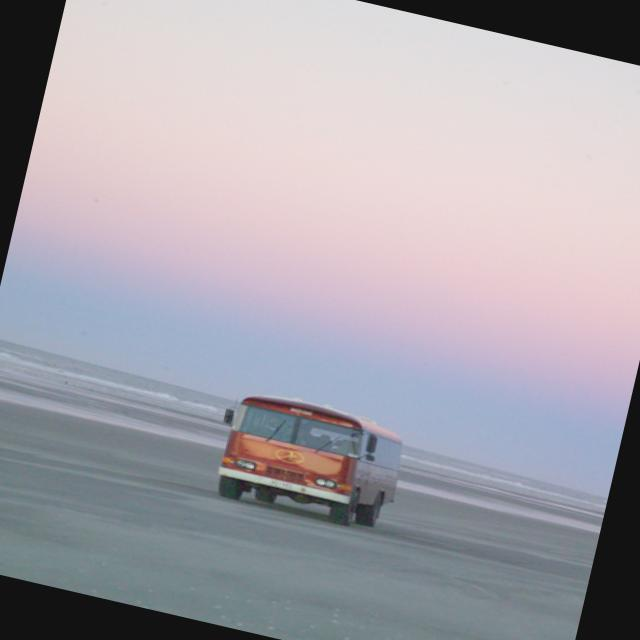Vehicle: (204, 385, 412, 535)
